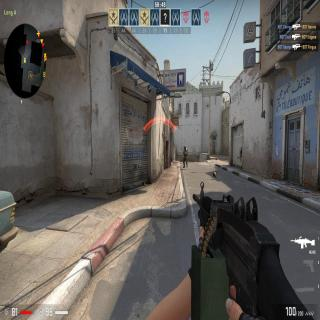CT-Body: (182, 145, 188, 168)
CT-Head: (183, 145, 187, 150)
